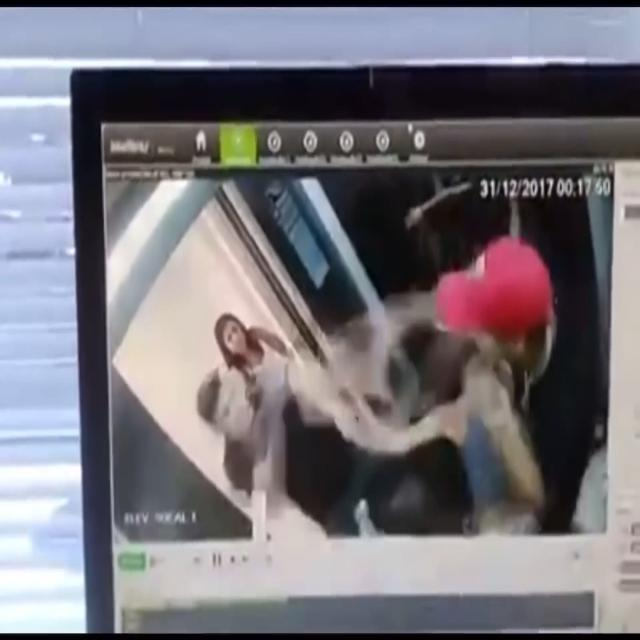fight: (196, 239, 566, 539)
